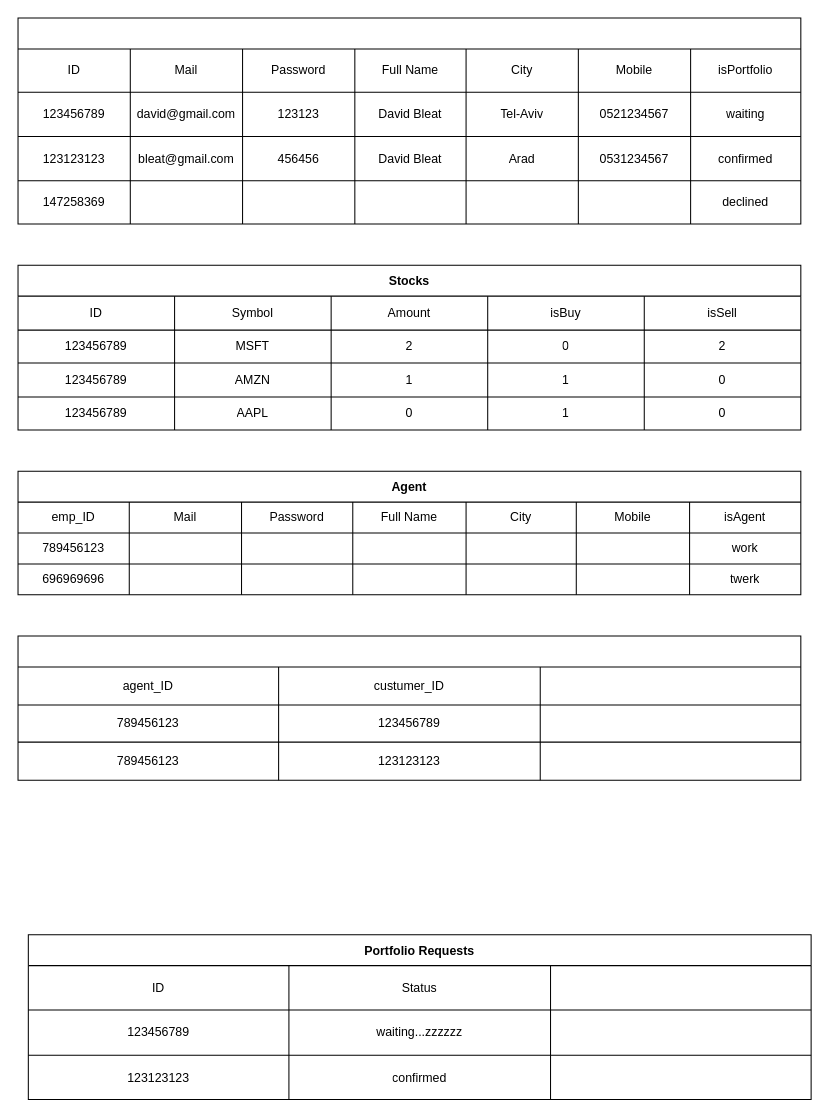
Some shapes in this 829 by 1118 pixel diagram are drawn without their labels. The box of each missing label's shape, as (x1, y1, x2, y2) in pixels:
Customer: (17, 17, 801, 224)
Portfolios: (17, 635, 801, 780)
